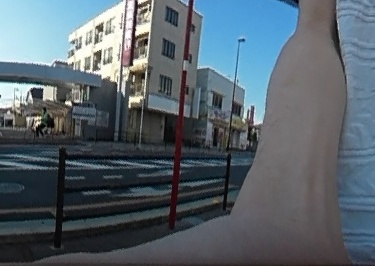person: (35, 105, 54, 139)
